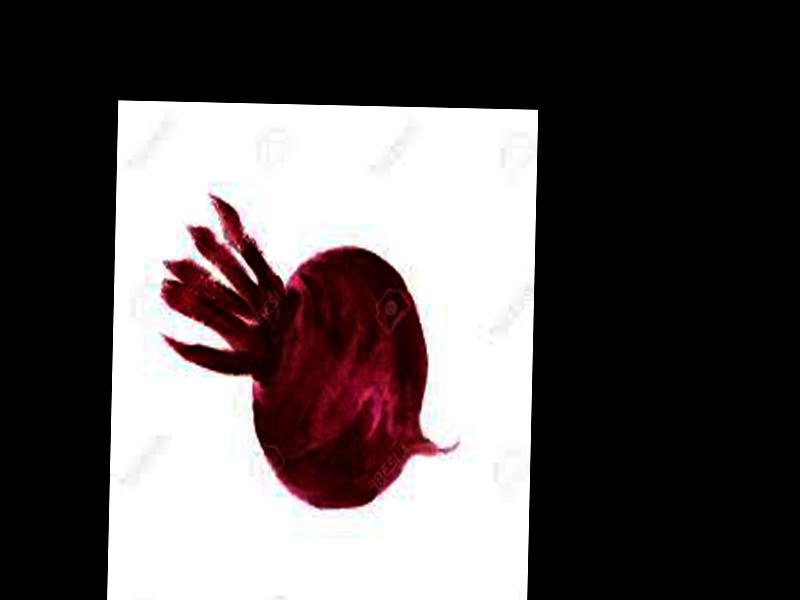Beet: (157, 195, 466, 513)
